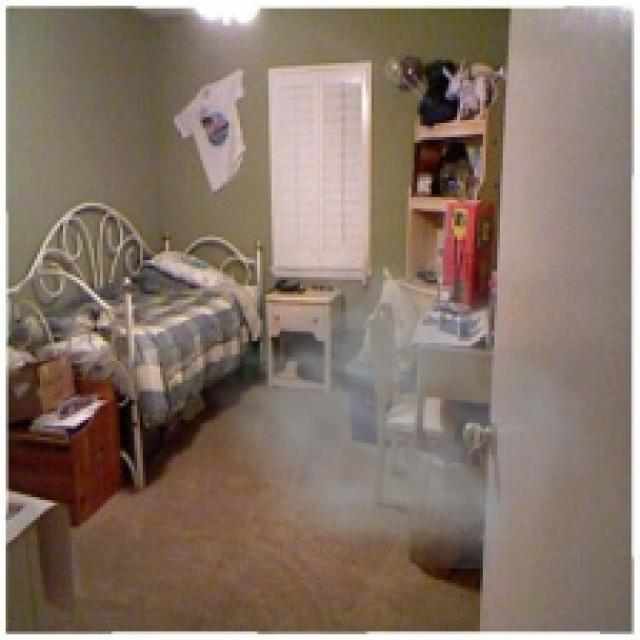Smoke: (194, 222, 609, 568)
